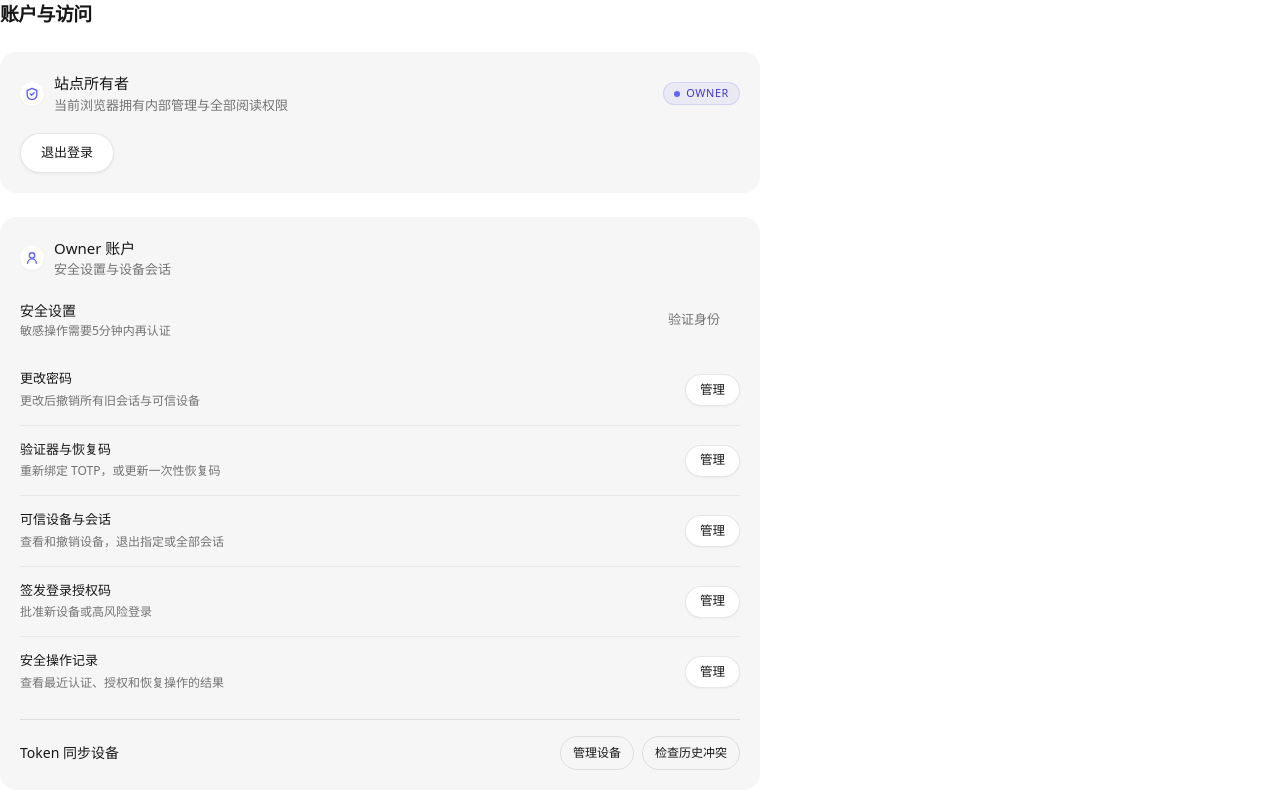
uses custom validation and a password toggle inside identity verification
Click the button "验证身份" at (694, 319), box x1=648 y1=299 x2=740 y2=339
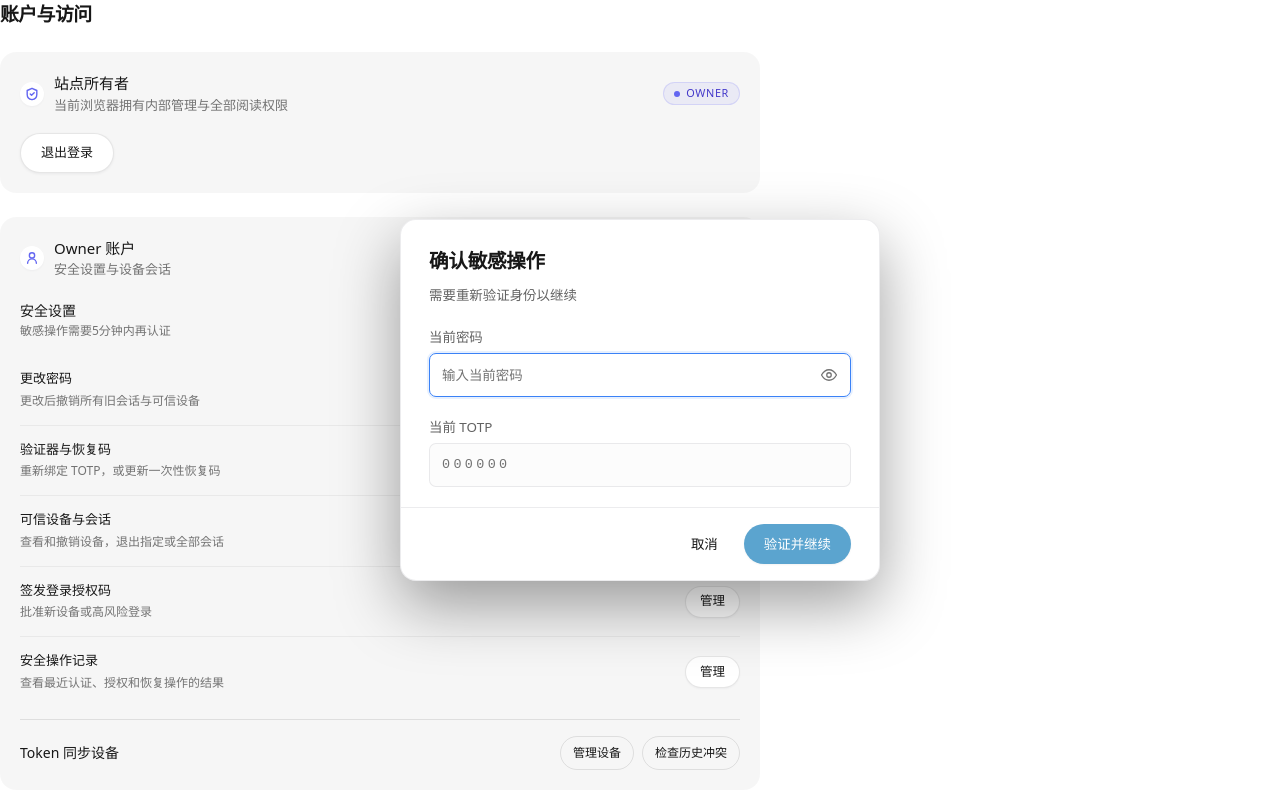
Click the button "验证并继续" at (797, 544), box x1=744 y1=524 x2=851 y2=564
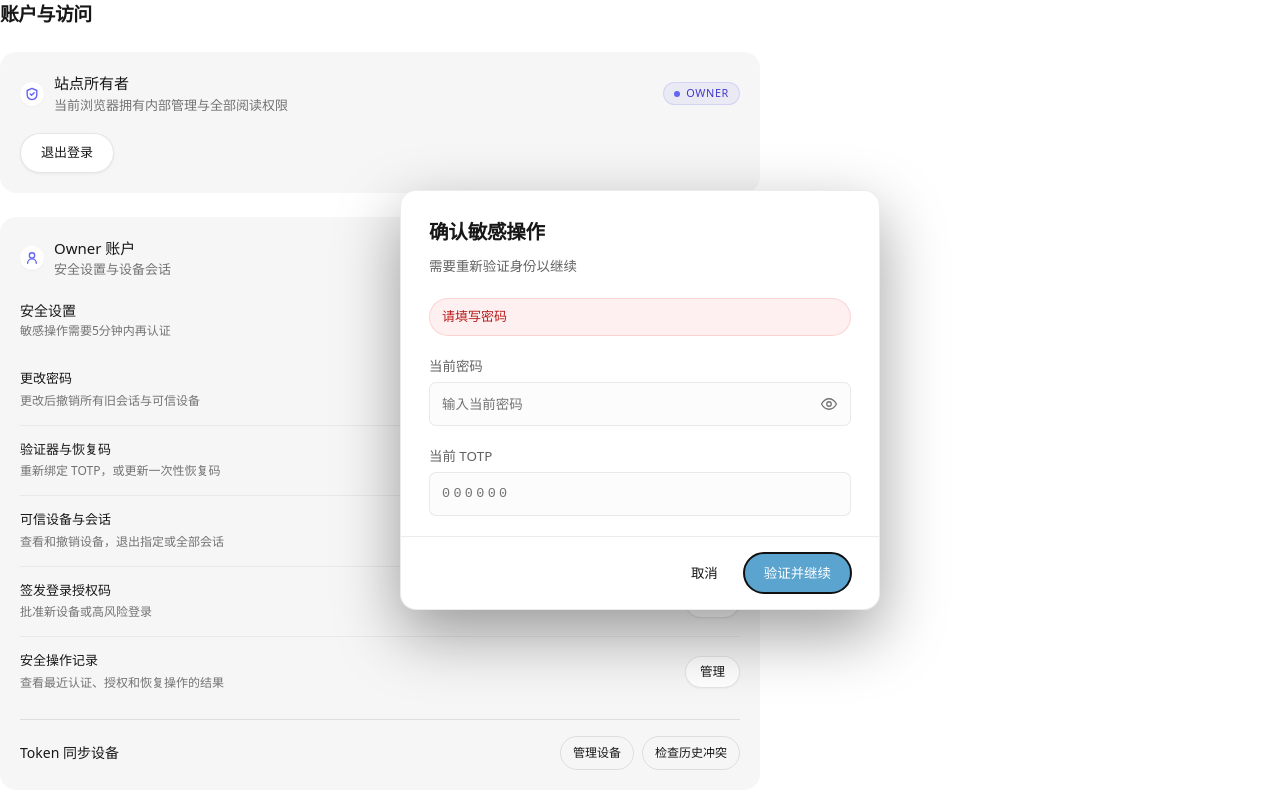
Expected: the message reads "请填写密码", x1=442 y1=307 x2=507 y2=325
Type "unsent-password" into the password field labelled "当前密码" at (640, 404), box x1=429 y1=382 x2=851 y2=426
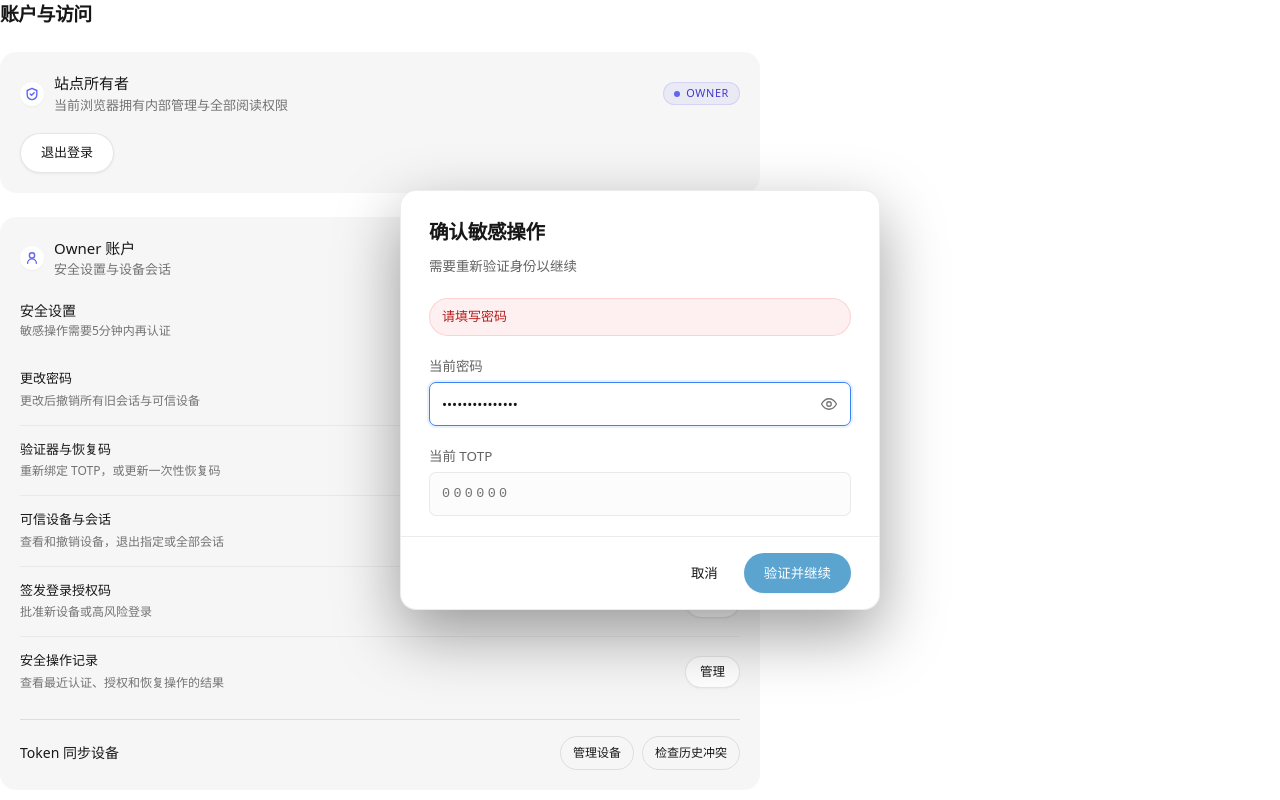
Click the button named "显示当前密码" at (829, 404), box x1=811 y1=386 x2=847 y2=422
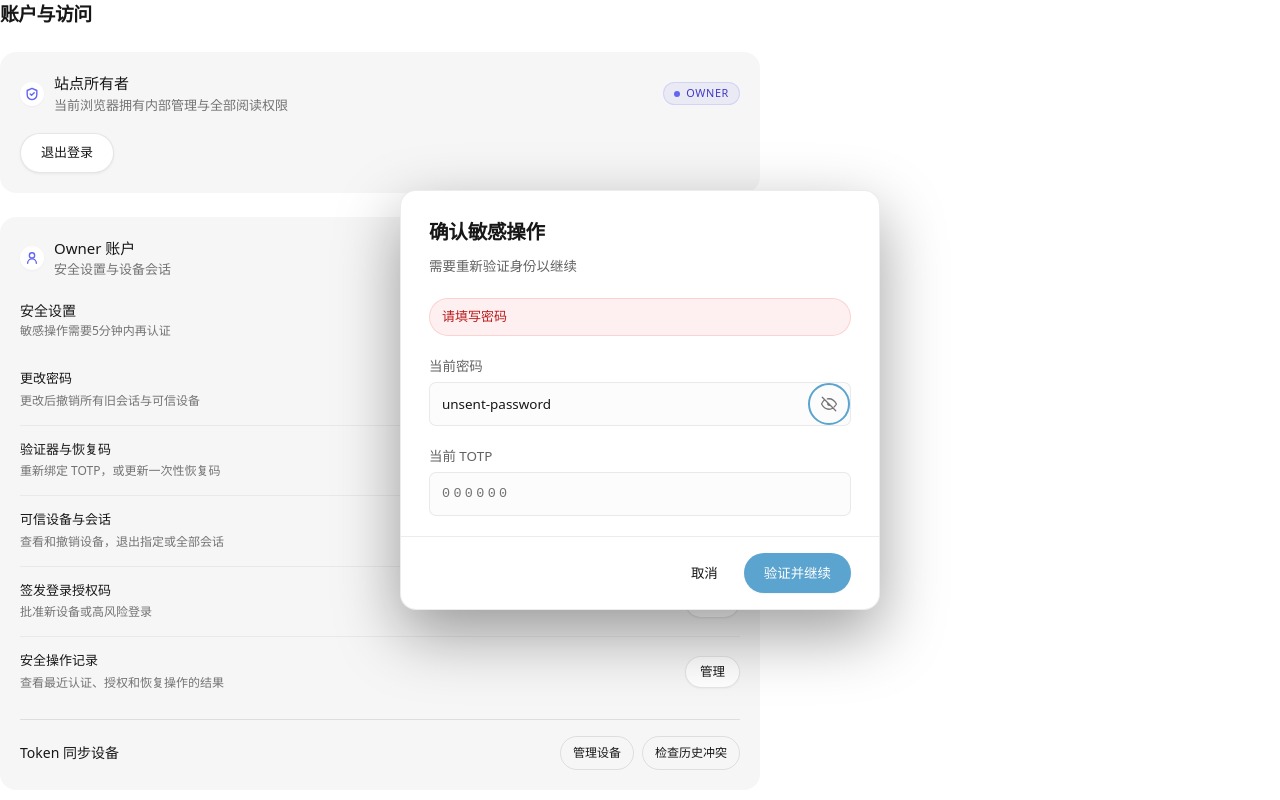
Expected: the field labelled "当前密码" shows its text, x1=429 y1=382 x2=851 y2=426
Type "123" into the field labelled "当前 TOTP" at (640, 494), box x1=429 y1=472 x2=851 y2=516
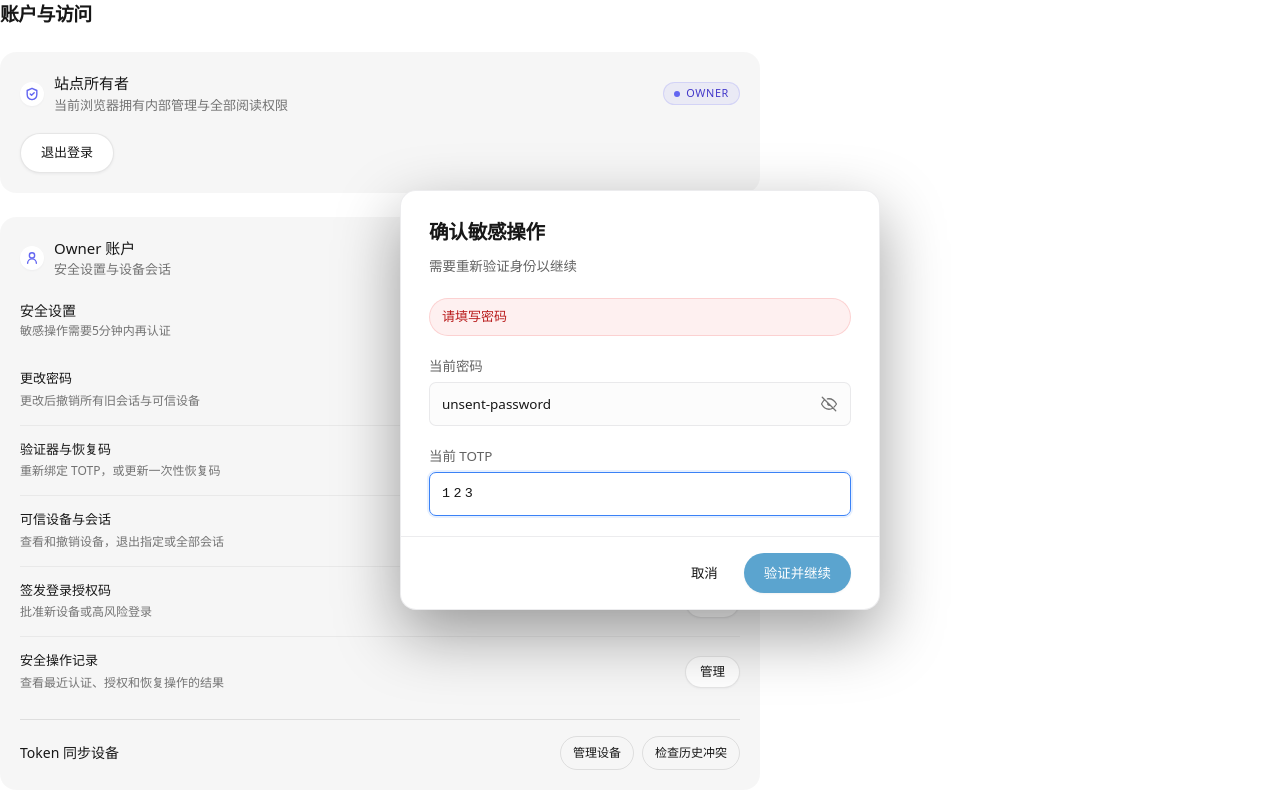
Click the button "验证并继续" at (797, 573), box x1=744 y1=553 x2=851 y2=593
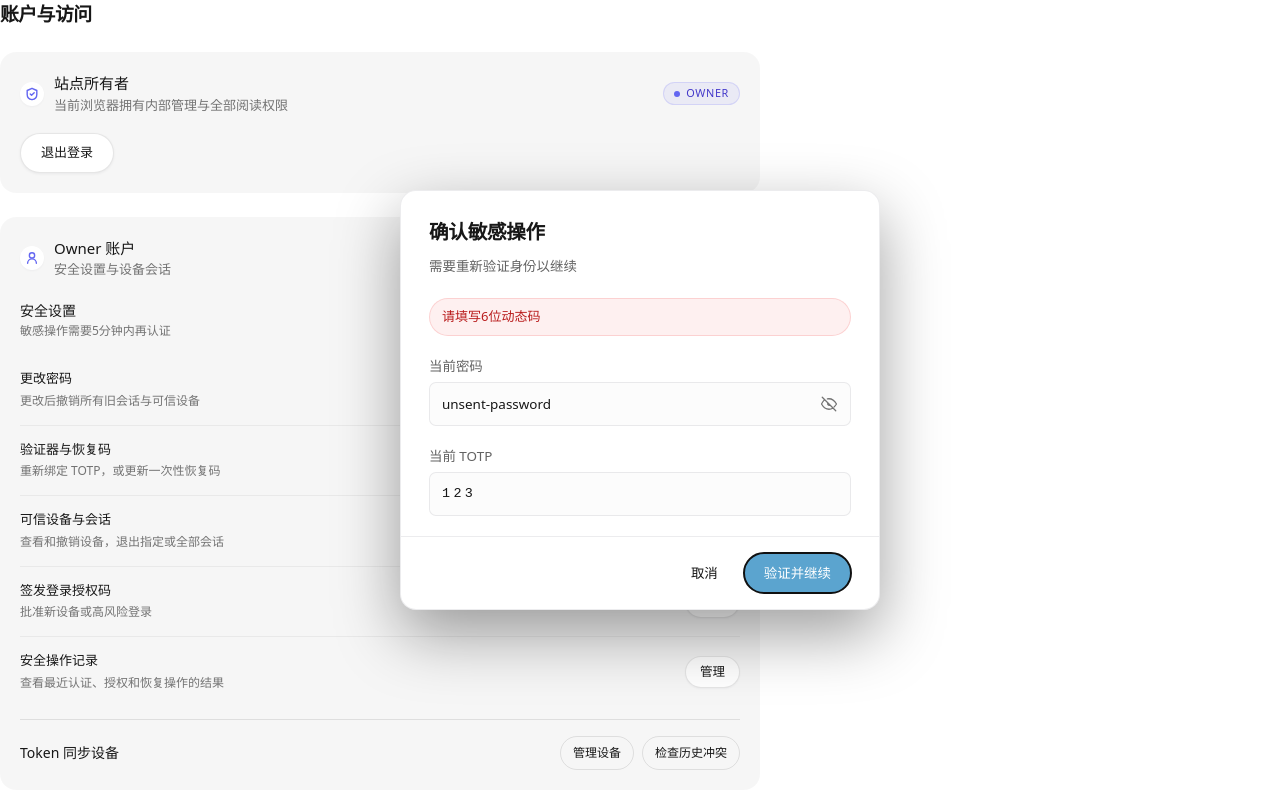
Expected: the message reads "请填写6位动态码", x1=442 y1=307 x2=540 y2=325
